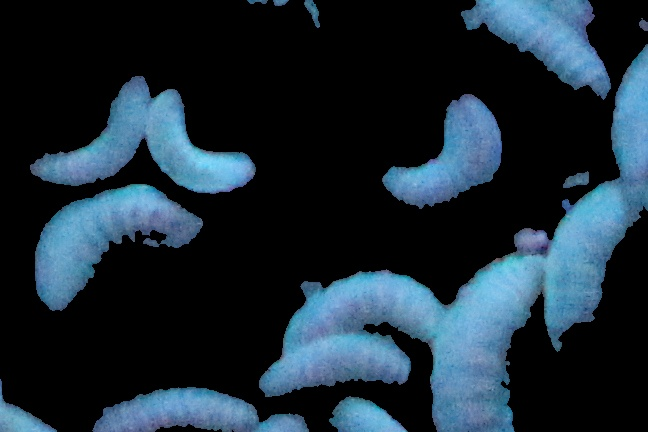larvae: (32, 190, 199, 317), (435, 246, 548, 432), (20, 73, 151, 194), (378, 92, 503, 217), (546, 165, 635, 335), (272, 269, 451, 348), (472, 1, 605, 102), (151, 90, 264, 196), (257, 332, 420, 398), (84, 388, 261, 430)
